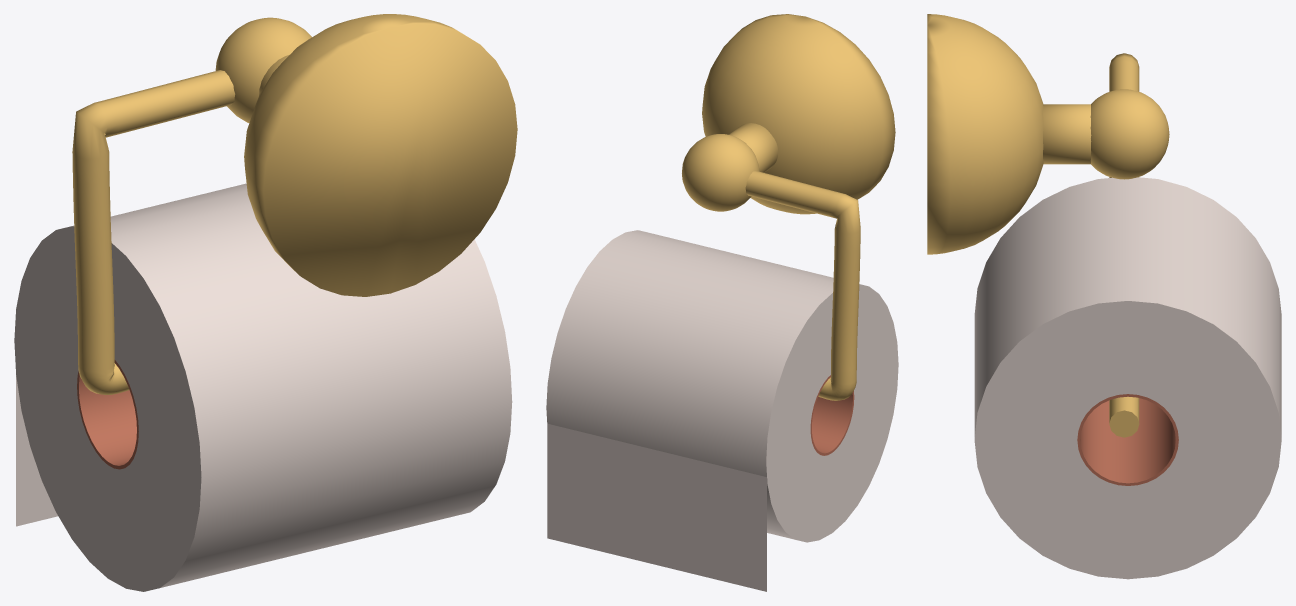
The model's file is ToiletPaperHolder.fbx.
3 renders of one model, left to right at view 1: azimuth 30°, elevation 25°; view 2: azimuth 150°, elevation 25°; view 3: azimuth 270°, elevation 25°, orthographic. The views are drawn at different scales.
Visible parts, largest first — view 1: Cylinder.013, NurbsPath.003, Cylinder.022; view 2: Cylinder.013, NurbsPath.003, Cylinder.022; view 3: Cylinder.013, NurbsPath.003, Cylinder.022.
Boxes of the visible parts, left/top/right/bottom form: Cylinder.013: left=14, top=183, right=512, bottom=591; NurbsPath.003: left=72, top=14, right=517, bottom=394; Cylinder.022: left=77, top=360, right=138, bottom=469; Cylinder.013: left=546, top=230, right=898, bottom=591; NurbsPath.003: left=682, top=14, right=895, bottom=400; Cylinder.022: left=810, top=375, right=854, bottom=455; Cylinder.013: left=974, top=177, right=1281, bottom=579; NurbsPath.003: left=927, top=14, right=1169, bottom=437; Cylinder.022: left=1077, top=394, right=1178, bottom=485.
Bounding box in the file's own units: 11.87 × 18.56 × 11.77.
